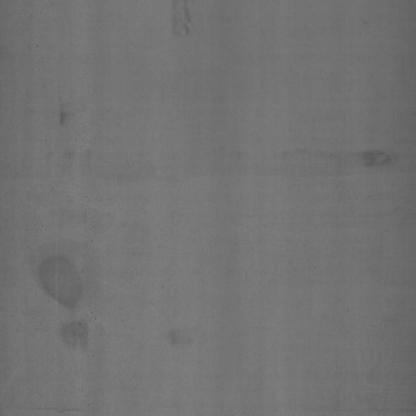oil_spot: (31, 227, 94, 357), (342, 132, 392, 174)
water_spot: (165, 2, 207, 43)
